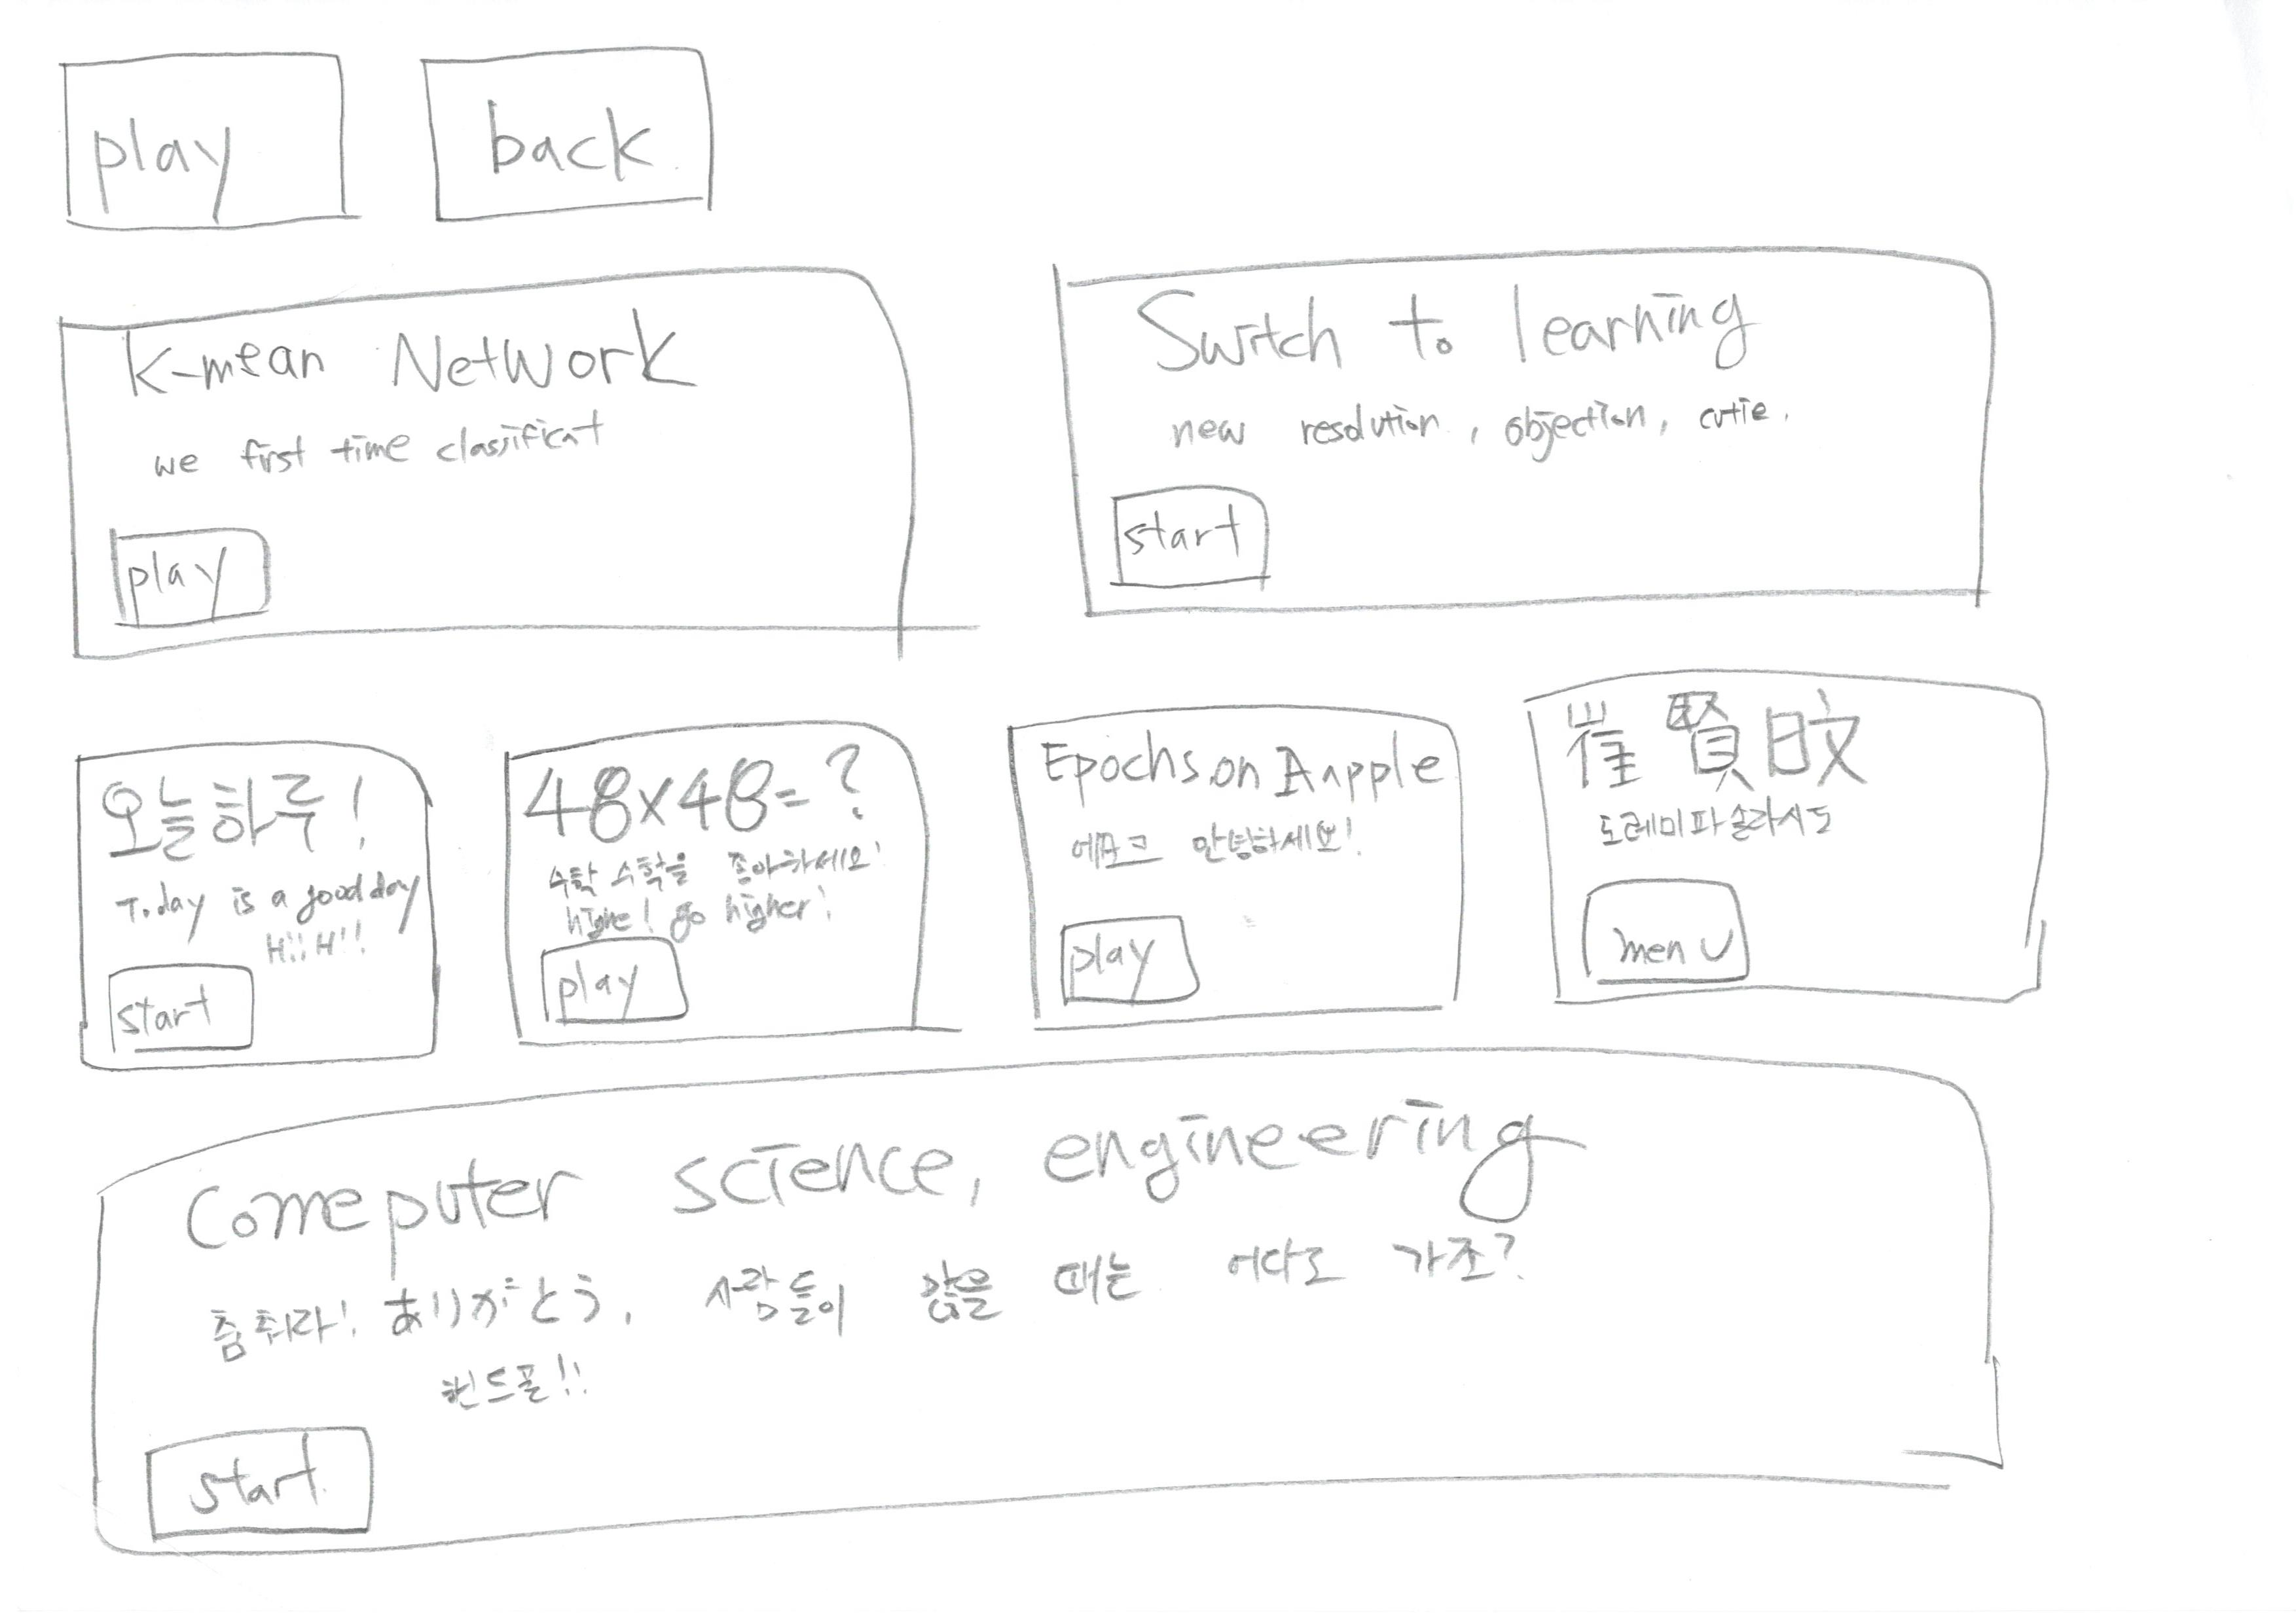back: (408, 33, 737, 237)
double: (1016, 236, 2015, 654), (32, 253, 988, 664)
menu: (1568, 870, 1777, 1026)
play: (49, 46, 367, 250), (88, 506, 290, 643), (1041, 902, 1210, 1019), (540, 944, 693, 1046)
quadruple: (1498, 657, 2083, 1044), (986, 680, 1510, 1062), (482, 710, 960, 1077), (40, 708, 487, 1088)
row: (18, 1065, 2296, 1620), (7, 612, 2285, 1083), (18, 244, 2296, 668), (21, 5, 2270, 241)
single: (35, 1044, 2118, 1571)
small-title: (158, 1083, 1544, 1213), (1137, 301, 1767, 359), (113, 332, 708, 388), (1575, 698, 1869, 801), (1055, 721, 1429, 800), (84, 761, 362, 866), (540, 756, 883, 837)
start: (127, 1388, 399, 1557), (1095, 482, 1289, 599), (104, 954, 287, 1065)
text: (202, 1230, 1595, 1415), (1162, 390, 1823, 452), (123, 408, 668, 482), (538, 847, 883, 946), (98, 870, 415, 961), (1041, 812, 1391, 881), (1584, 791, 1848, 854)
